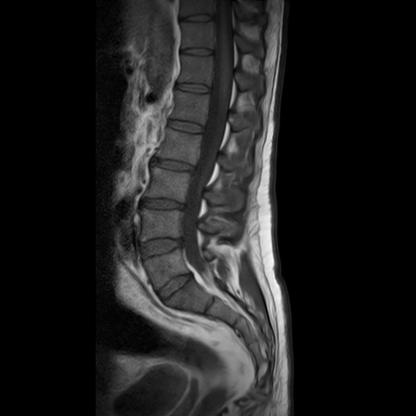Degenerative Disc Diseaserotation: (141, 197, 186, 215), (153, 157, 197, 175)
Disc Bulgerotation: (136, 237, 186, 257), (153, 157, 197, 175), (142, 197, 186, 214)
